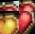heart: (19, 11, 35, 34), (0, 0, 19, 11), (19, 0, 35, 11)
